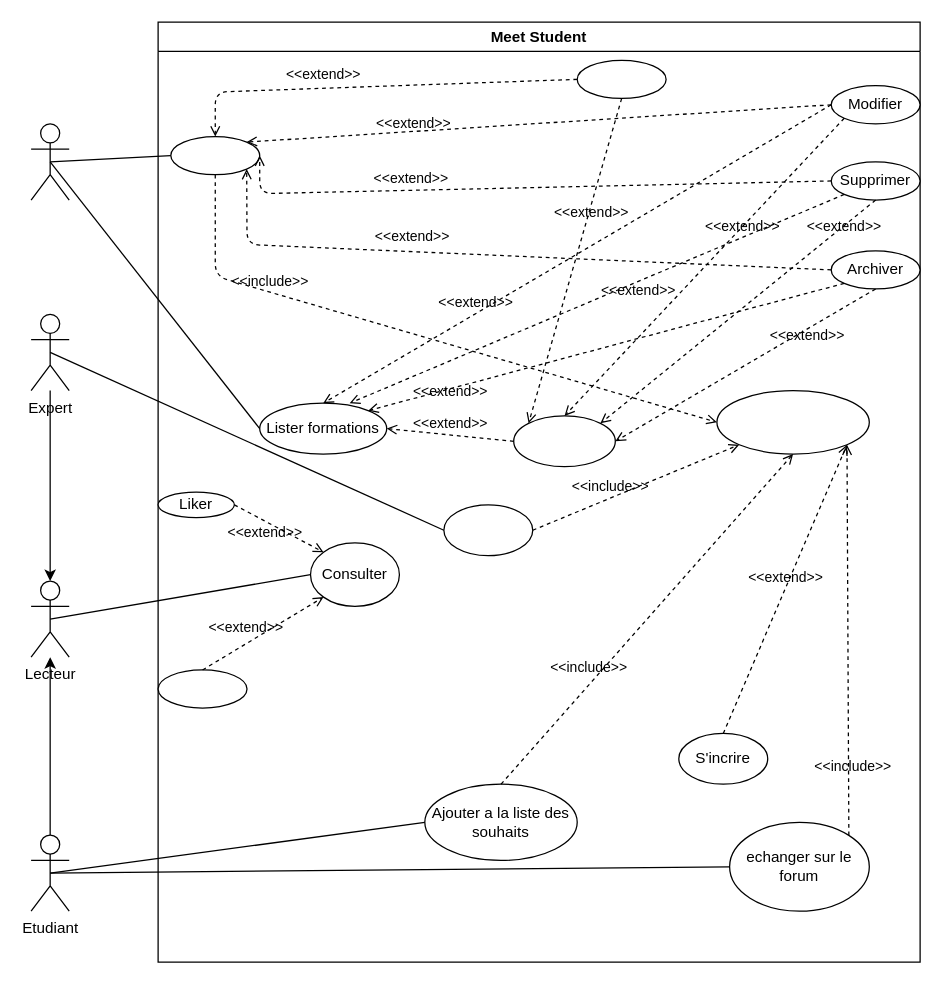
The diagram is 942 pixels wide and 984 high, and some of its shapes have lost their labels. Each missing label, with the centre of its shape:
Admin: the point at 49,161
Ajouter: the point at 621,78
Commenter: the point at 202,688
evaluer: the point at 488,530
Lister Cours: the point at 563,441
Lister ecole: the point at 215,155
Se connecter: the point at 792,421
